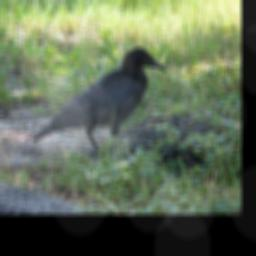Crow: (24, 47, 166, 157)
